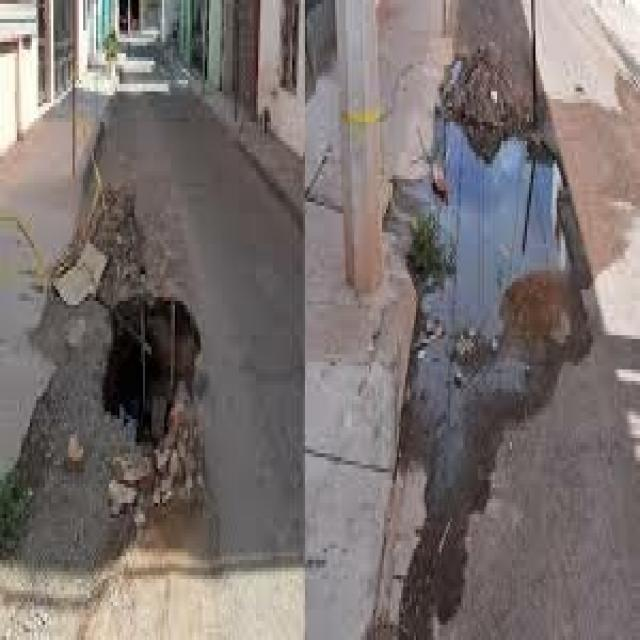Pothole: (395, 76, 623, 499), (83, 252, 243, 537)
